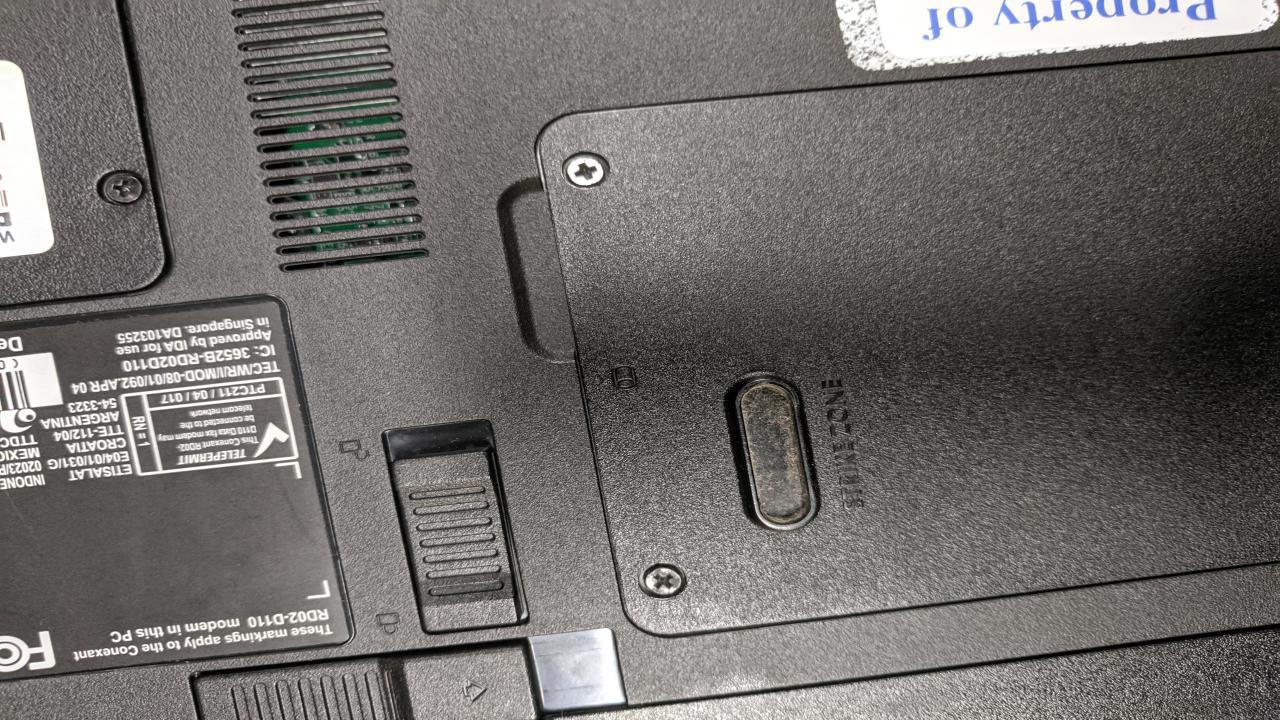CRS: (636, 561, 691, 601), (562, 154, 609, 189), (95, 170, 146, 202)
